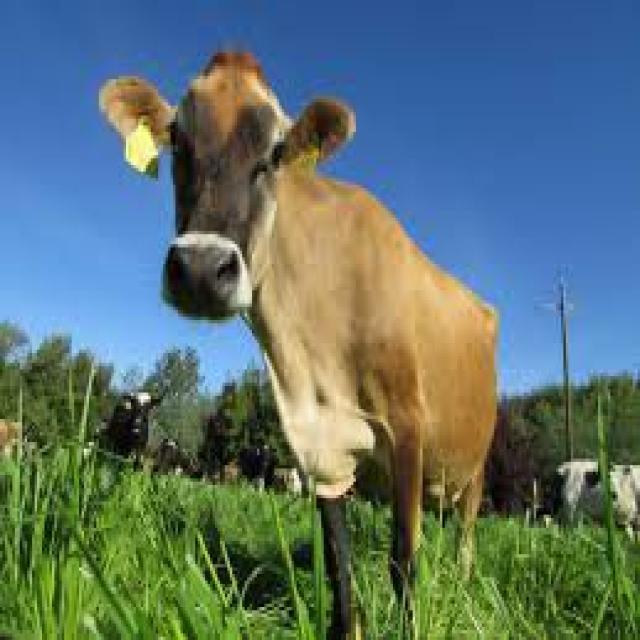cow: (131, 65, 310, 297)
